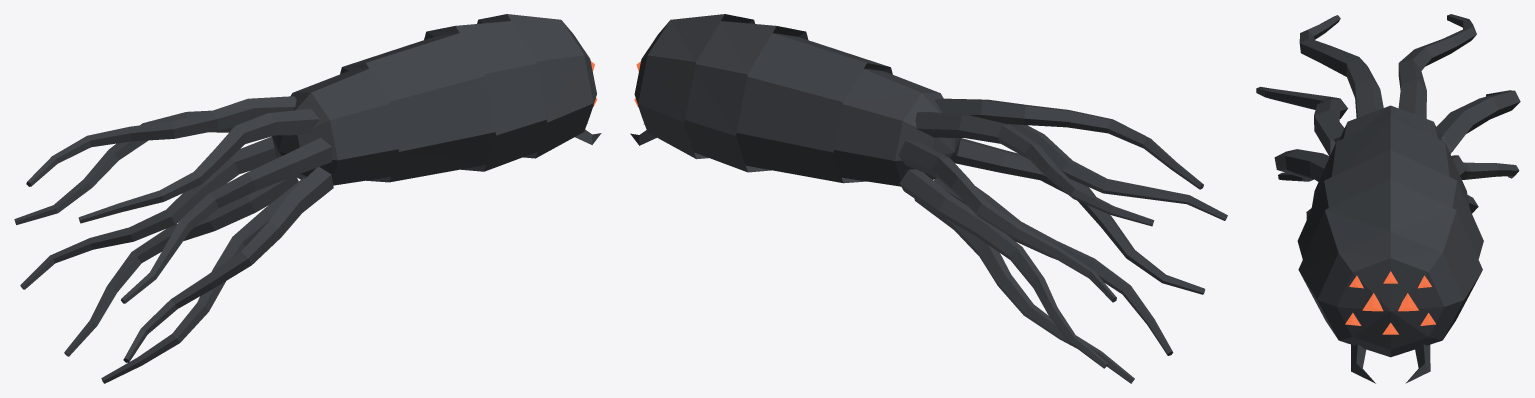
Rendered from SM_MechSentinel_Far.fbx.
3 views of the same model, side by side, from view 1: azimuth 30°, elevation 25°; view 2: azimuth 150°, elevation 25°; view 3: azimuth 270°, elevation 25° (orthographic). The views are drawn at different scales.
Parts seen in each view (by area): view 1: SM_MechSentinel_Far; view 2: SM_MechSentinel_Far; view 3: SM_MechSentinel_Far.
Part boxes in pixels (x1,y1,x2,y2): SM_MechSentinel_Far: (14, 14, 601, 383); SM_MechSentinel_Far: (630, 14, 1227, 383); SM_MechSentinel_Far: (1256, 14, 1520, 383).
Bounding box in the file's own units: 3.99 × 1.78 × 1.48.
